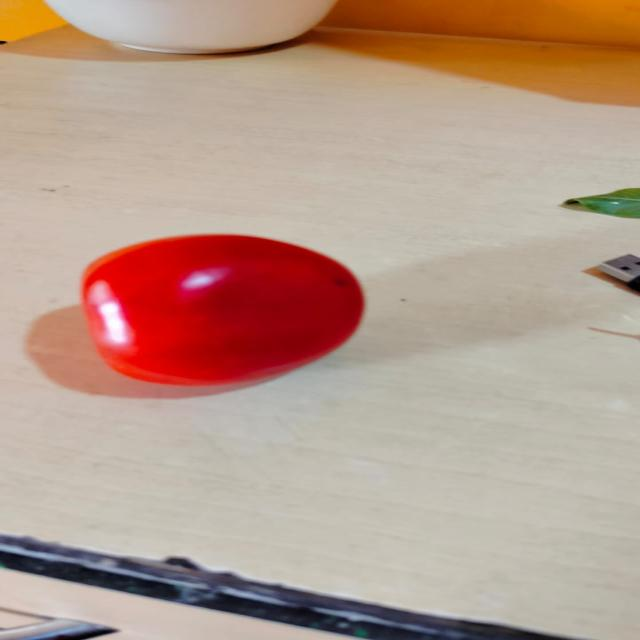tomato: (81, 236, 361, 386)
